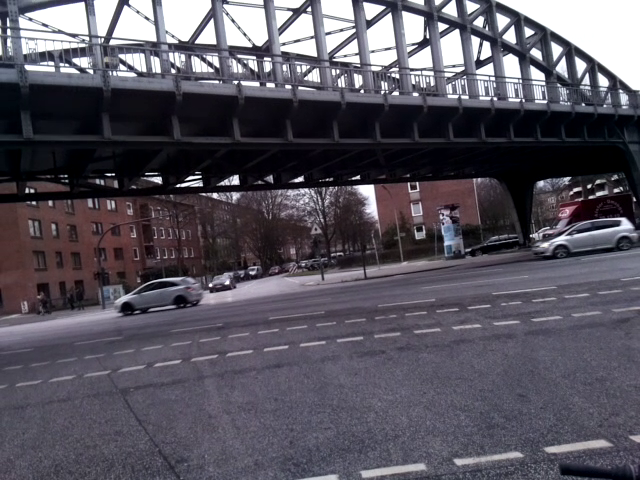car: (530, 211, 637, 267), (113, 272, 209, 323)
